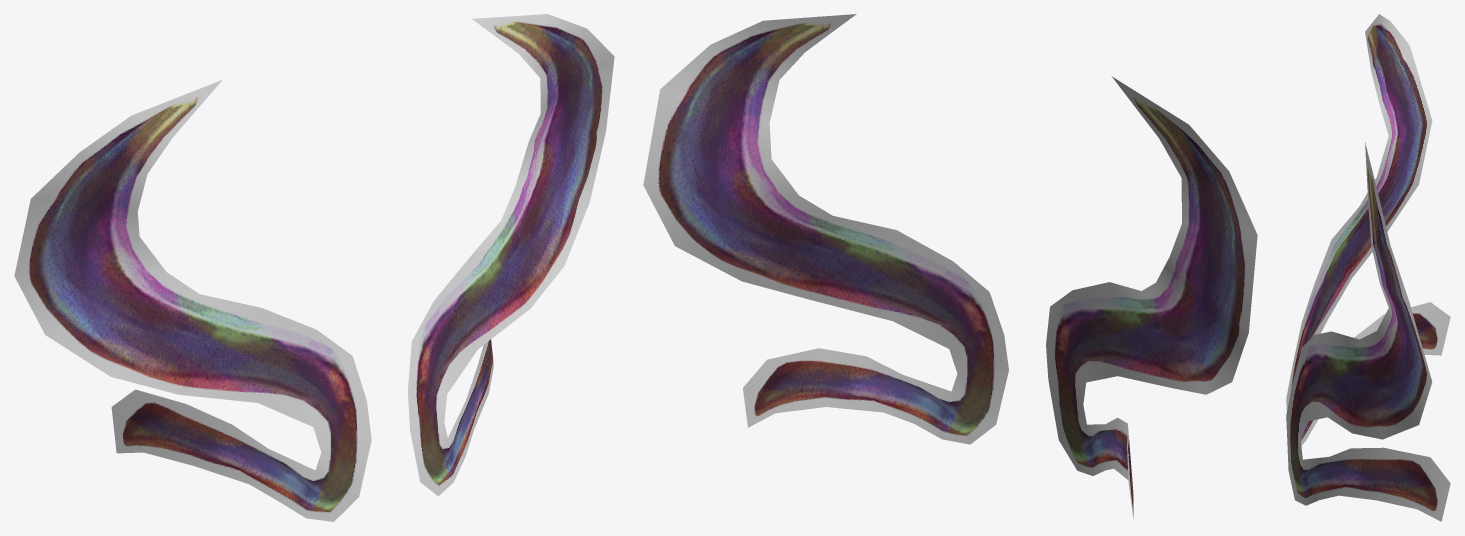
Rendered from Fairy_Head.fbx.
3 views of the same model, side by side, from view 1: azimuth 30°, elevation 25°; view 2: azimuth 150°, elevation 25°; view 3: azimuth 270°, elevation 25° (orthographic). The views are drawn at different scales.
Parts seen in each view (by area): view 1: Fairy_Head_mesh; view 2: Fairy_Head_mesh; view 3: Fairy_Head_mesh.
Part boxes in pixels (x1,y1,x2,y2): Fairy_Head_mesh: (14, 14, 614, 521); Fairy_Head_mesh: (643, 14, 1257, 519); Fairy_Head_mesh: (1286, 14, 1450, 521).
Bounding box in the file's own units: 21.65 × 15.09 × 5.76.
1 material, 1 textured.
